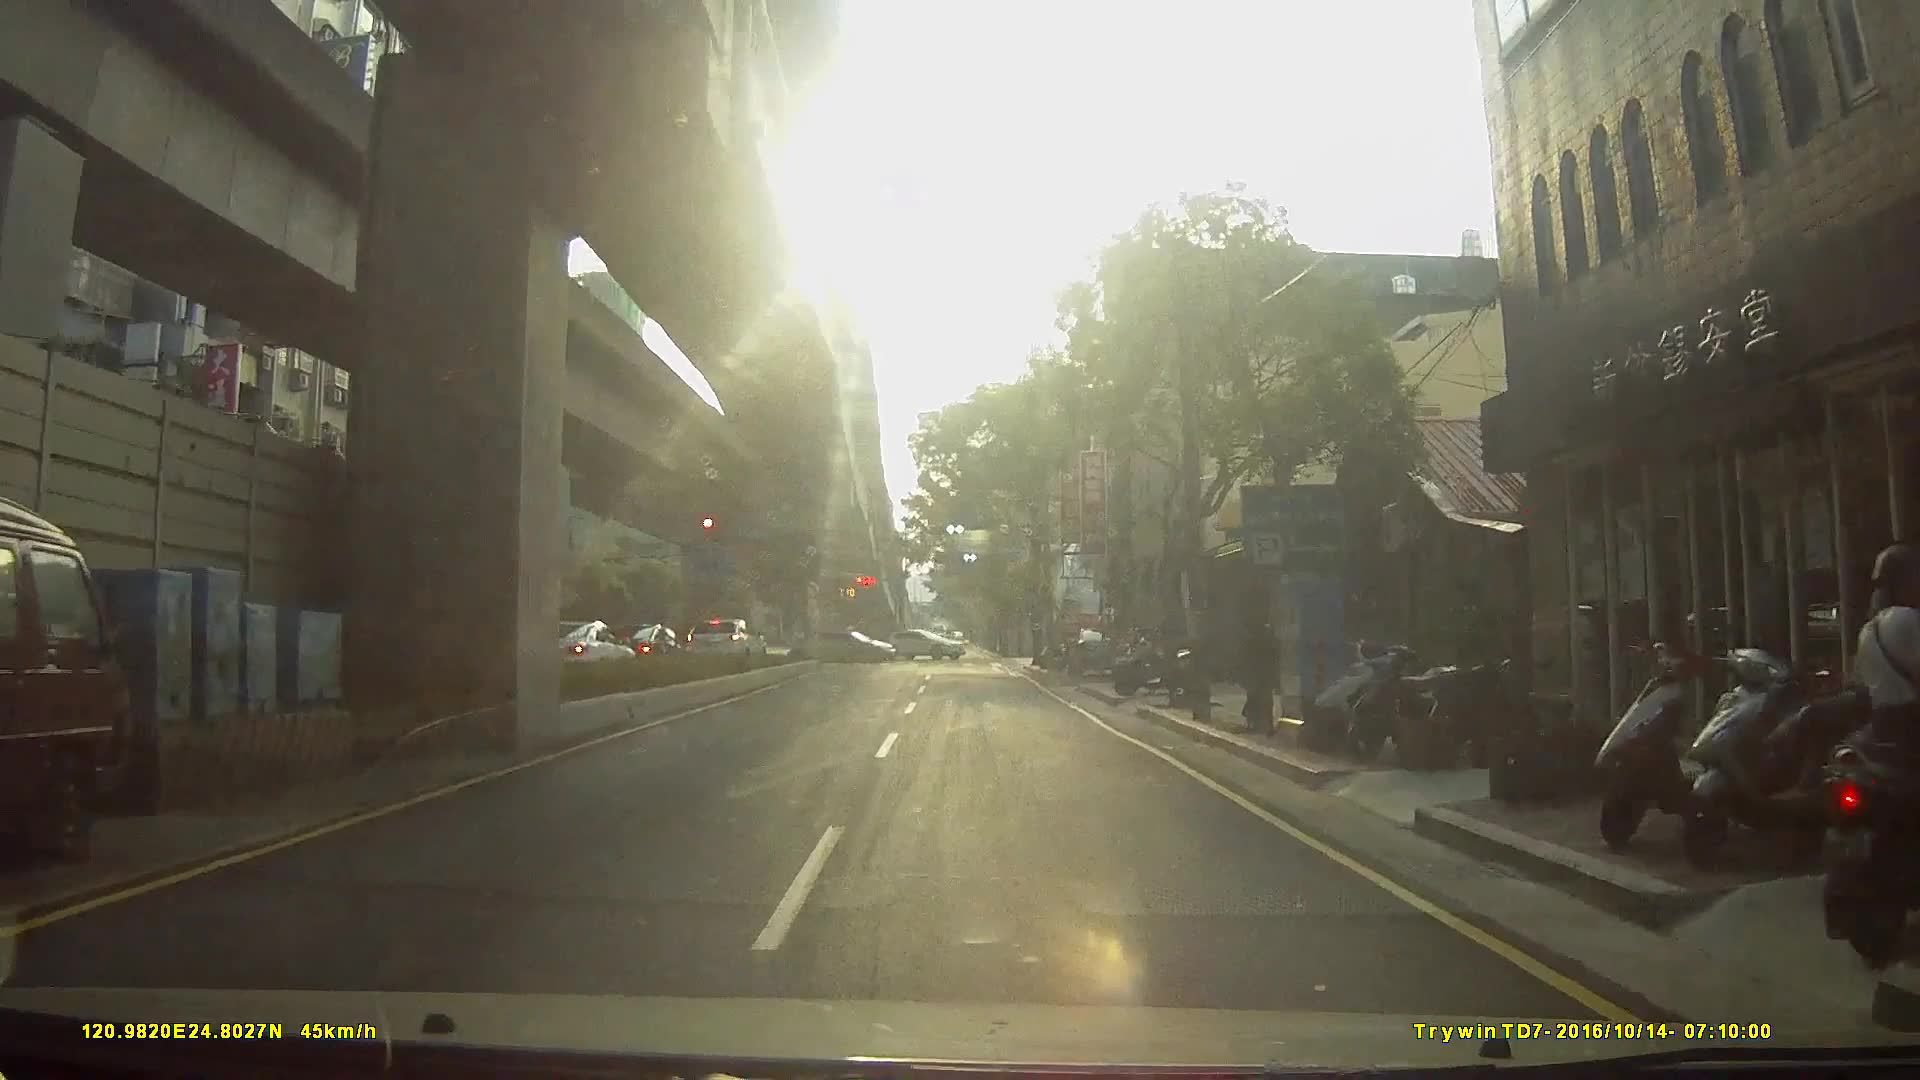rider: (1817, 547, 1920, 967)
vehicle: (1, 486, 148, 889), (519, 618, 632, 683), (600, 621, 691, 673), (680, 617, 766, 665), (799, 627, 899, 665), (1064, 623, 1122, 675), (882, 627, 967, 660)
